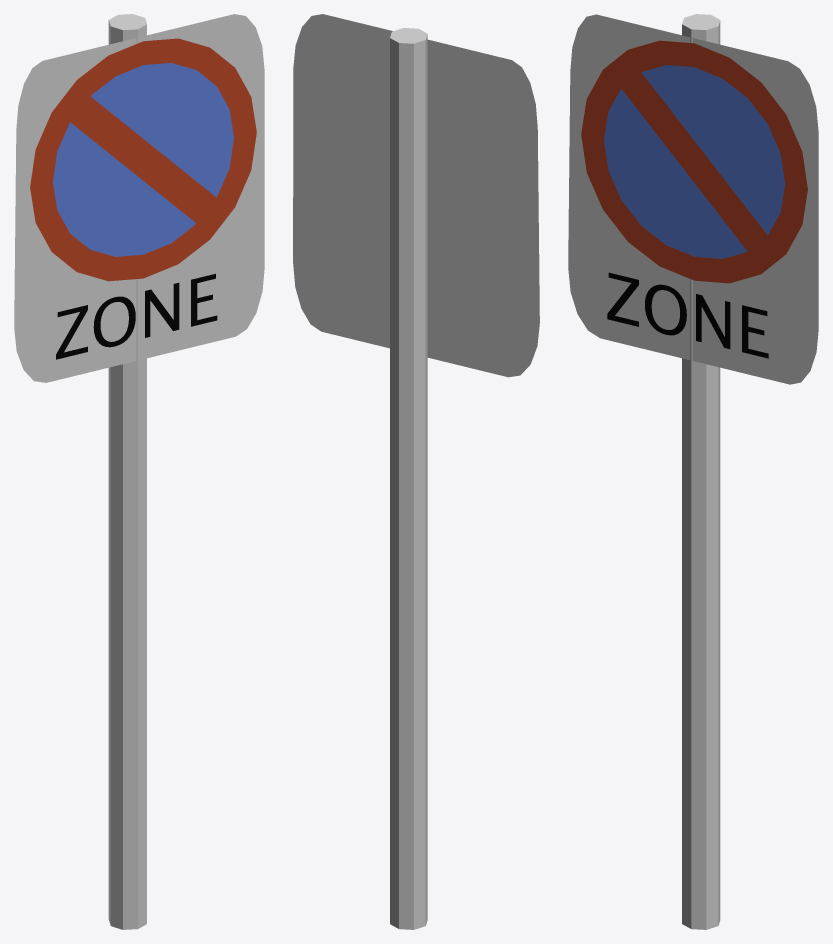
The picture shows the model from 3 angles, left to right: view 1: azimuth 30°, elevation 25°; view 2: azimuth 150°, elevation 25°; view 3: azimuth 330°, elevation 25°; orthographic projection.
Visible parts, largest first — view 1: sign_p39; view 2: sign_p39; view 3: sign_p39.
Part boxes in pixels (x1=…): sign_p39: x1=14, y1=14, x2=264, y2=929; sign_p39: x1=293, y1=14, x2=539, y2=929; sign_p39: x1=568, y1=14, x2=818, y2=929.
Bounding box in the file's own units: 1.46 × 5 × 0.2117.
